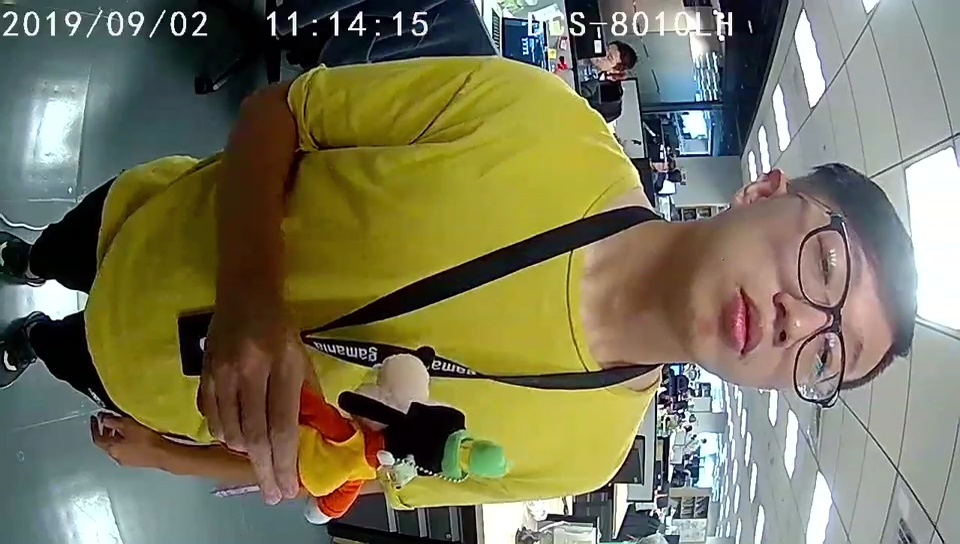goofy: (304, 386, 508, 525)
